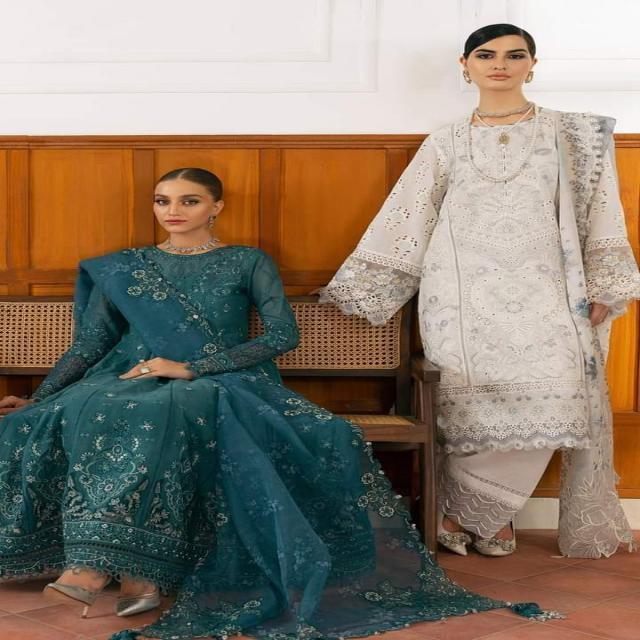female-dress: (31, 248, 399, 631), (398, 115, 640, 578)
